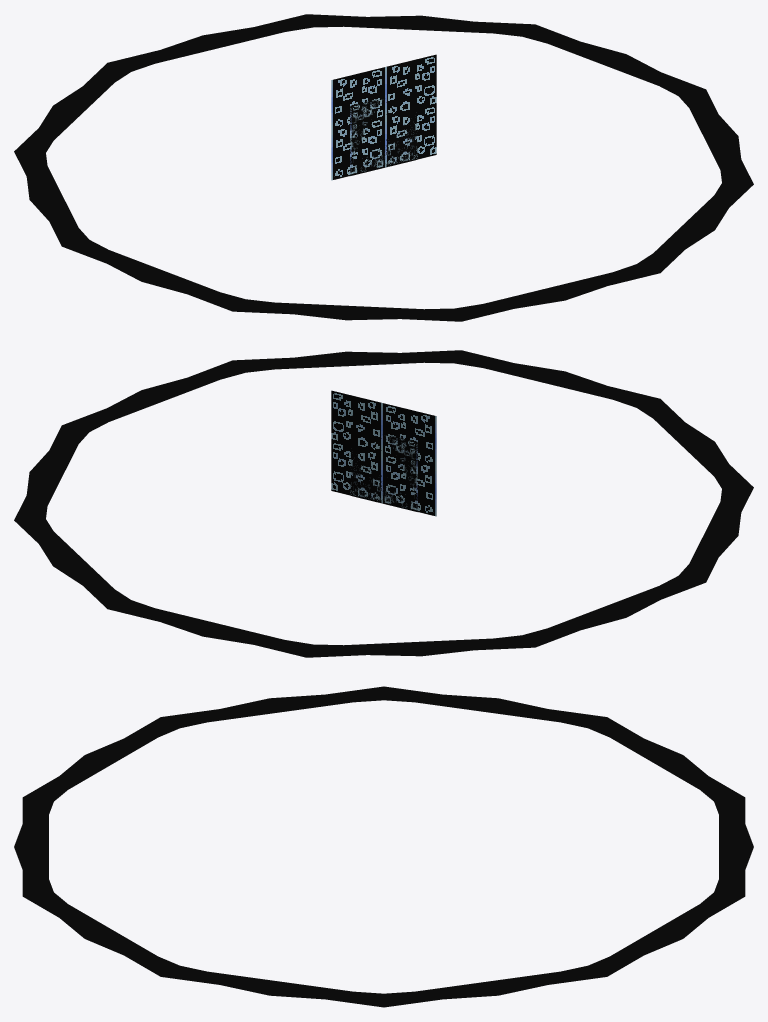
3 renders of one model, top to bottom at view 1: azimuth 30°, elevation 25°; view 2: azimuth 150°, elevation 25°; view 3: azimuth 270°, elevation 25°, orthographic. The views are drawn at different scales.
Visible parts, largest first — view 1: ef_027; view 2: ef_027; view 3: ef_027.
Part boxes in pixels (x1,y1,x2,y2): ef_027: [14, 14, 753, 321]; ef_027: [14, 350, 753, 657]; ef_027: [14, 686, 753, 1007].
Bounding box in the file's own units: 2 × 0.2986 × 1.95.
Materials: 1 (1 with a texture image).
